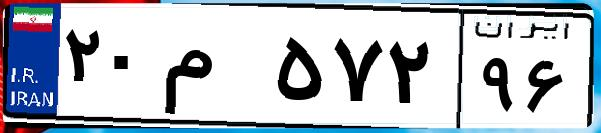0: (110, 28, 158, 98)
2: (385, 28, 445, 110), (57, 26, 110, 100)
5: (270, 28, 330, 110)
6: (525, 38, 570, 115)
7: (330, 28, 385, 110)
9: (475, 38, 525, 113)
م: (158, 20, 270, 120)
